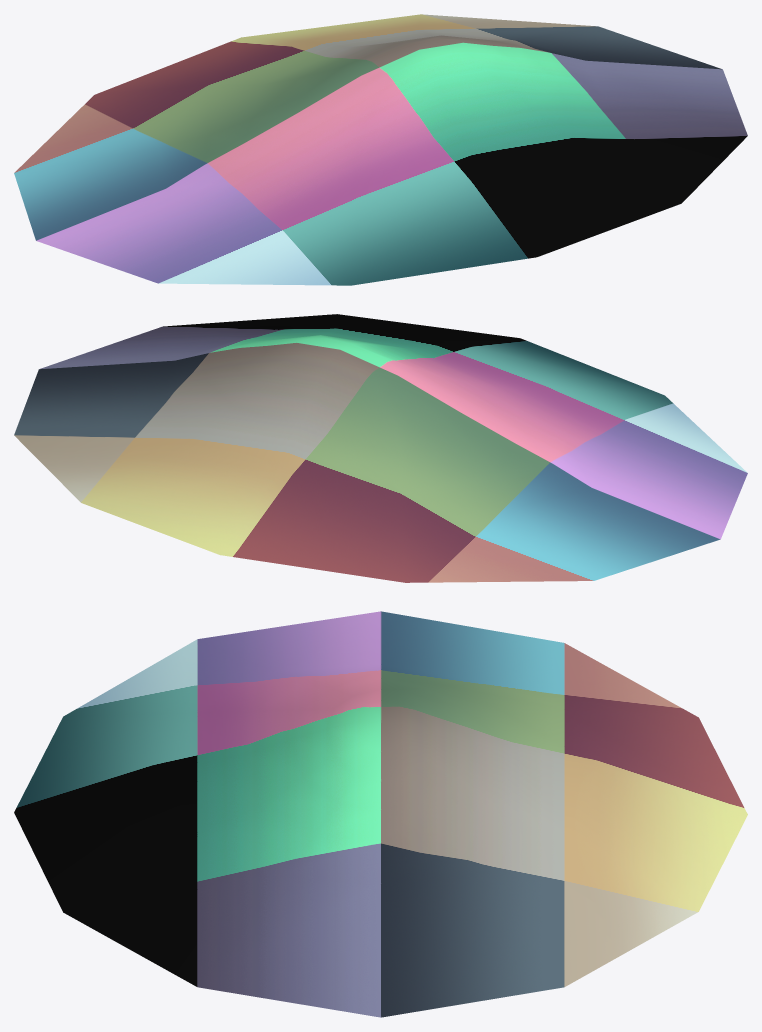
Rendered from dune2.fbx.
3 renders of one model, top to bottom at view 1: azimuth 30°, elevation 25°; view 2: azimuth 150°, elevation 25°; view 3: azimuth 270°, elevation 25°, orthographic. The views are drawn at different scales.
Visible parts, largest first — view 1: dune2; view 2: dune2; view 3: dune2.
Boxes of the visible parts, left/top/right/bottom form: dune2: left=14, top=14, right=747, bottom=285; dune2: left=14, top=314, right=747, bottom=582; dune2: left=14, top=611, right=747, bottom=1017.
Bounding box in the file's own units: 123 × 16.68 × 92.71.
1 material, 1 textured.
